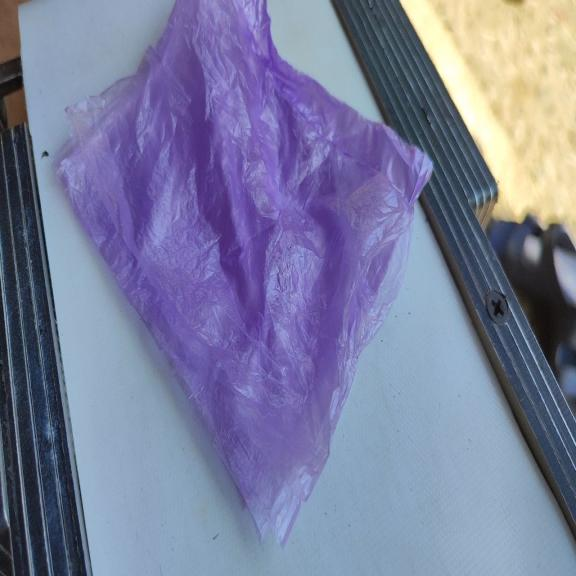Plastik: (50, 0, 433, 546)
